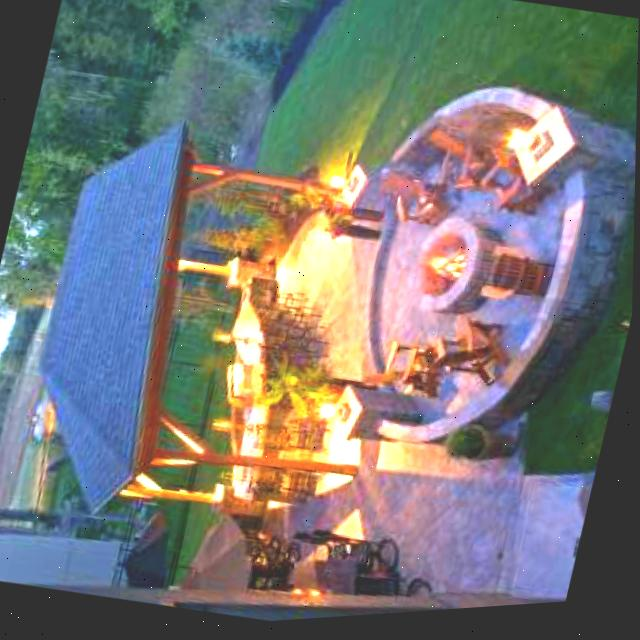Fire: (419, 243, 481, 298)
